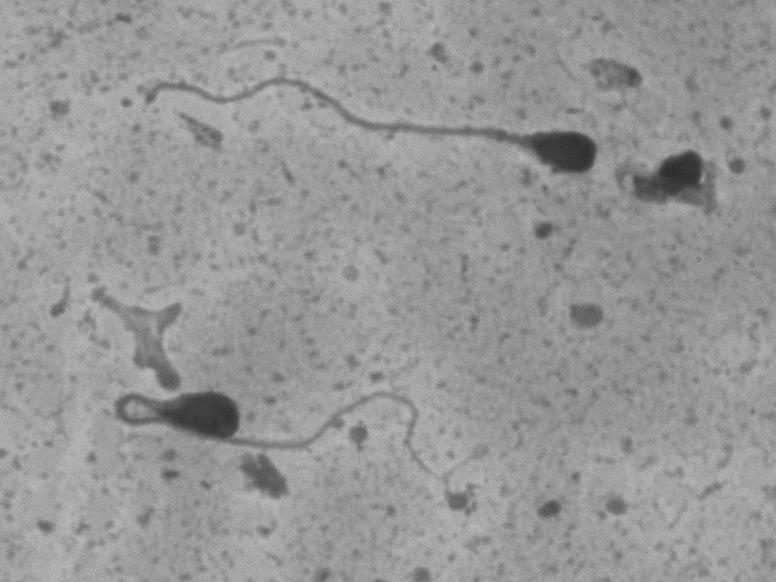Abnormal: (111, 55, 601, 179), (100, 371, 480, 499)
